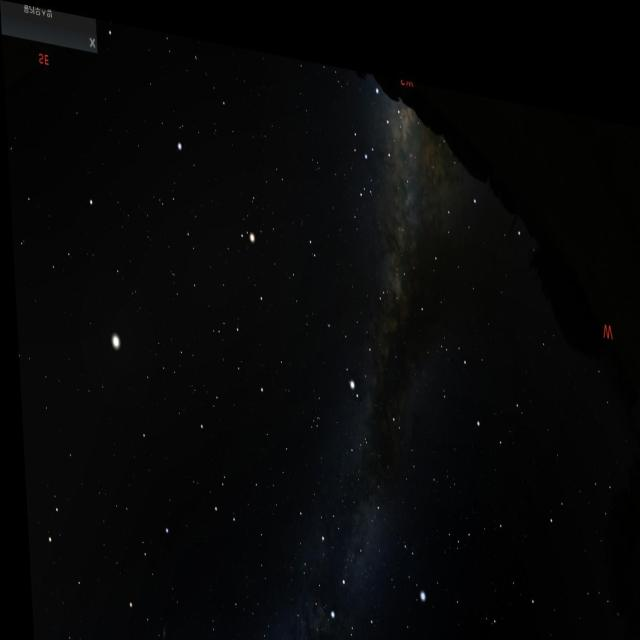aquila: (312, 256, 396, 401)
cygnus: (304, 430, 386, 626)
lyra: (391, 513, 424, 591)
sagittarius: (355, 62, 406, 162)
